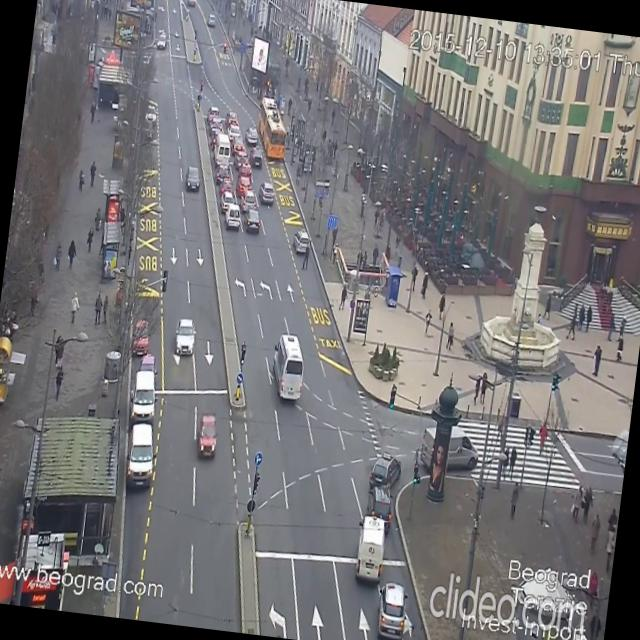bus: (253, 94, 291, 160), (272, 336, 308, 402), (210, 132, 232, 172)
car: (418, 420, 478, 474), (120, 422, 159, 492), (371, 579, 409, 640), (352, 511, 383, 582), (132, 365, 159, 424), (367, 474, 395, 524), (370, 453, 400, 494), (194, 412, 220, 458), (174, 317, 196, 357), (132, 316, 150, 356), (221, 107, 241, 128), (138, 354, 156, 376), (258, 182, 276, 204), (216, 190, 233, 213), (244, 210, 261, 232), (226, 204, 240, 230), (209, 122, 227, 142), (240, 190, 256, 212), (184, 168, 198, 192), (293, 228, 308, 250), (219, 179, 234, 200), (236, 176, 254, 193), (205, 110, 222, 128), (250, 146, 262, 168), (214, 164, 228, 182), (240, 161, 253, 177), (156, 32, 167, 50), (233, 139, 246, 154), (247, 129, 259, 144), (229, 128, 241, 142), (234, 152, 246, 163), (207, 12, 216, 26), (185, 0, 195, 4)
